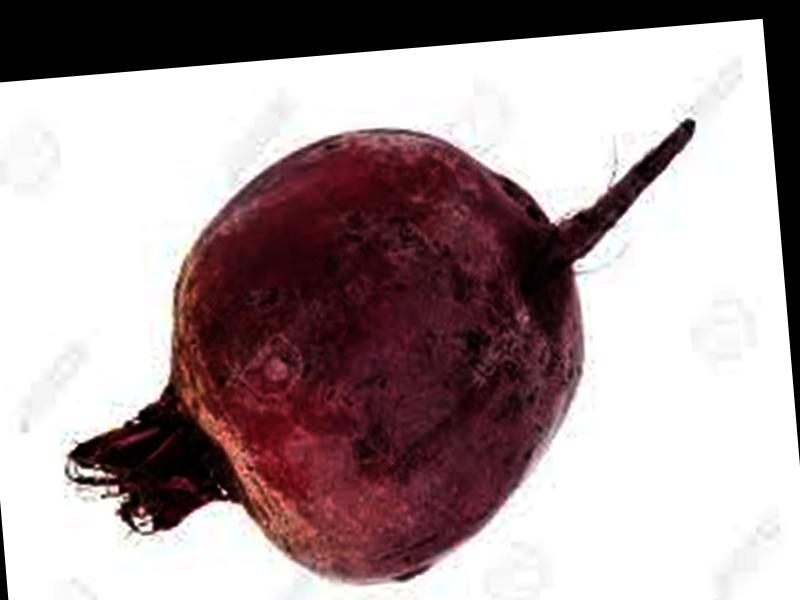Beet: (41, 102, 729, 600)
